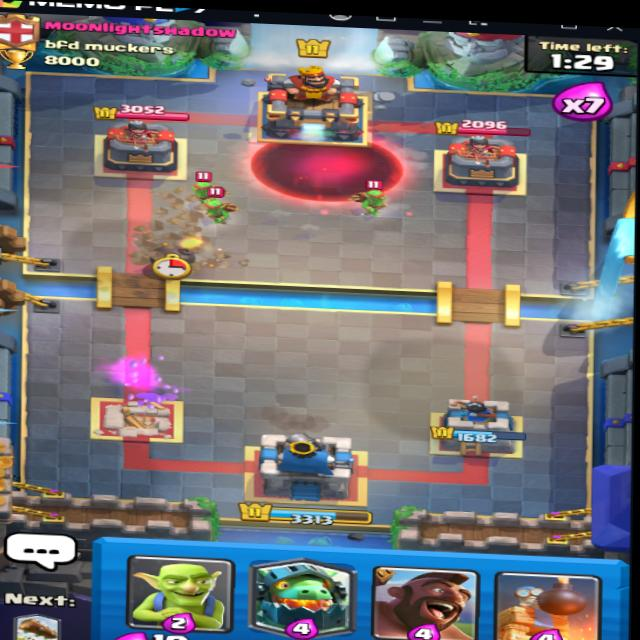mighty-miner-ability: (130, 192, 253, 284)
spear-goblin: (187, 190, 238, 231), (357, 177, 398, 217), (179, 166, 221, 205)
void: (245, 123, 412, 205)
